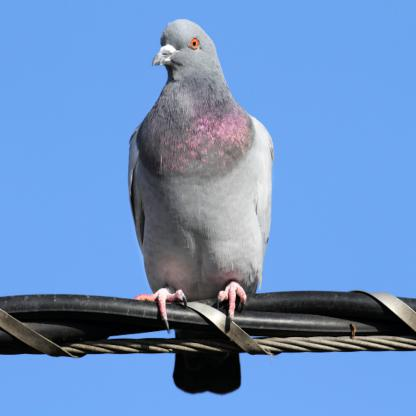Rock Pigeon: (122, 14, 288, 303)
